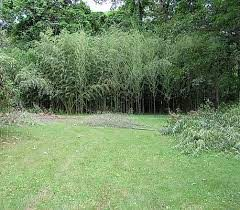bamboo: (7, 1, 237, 112)
